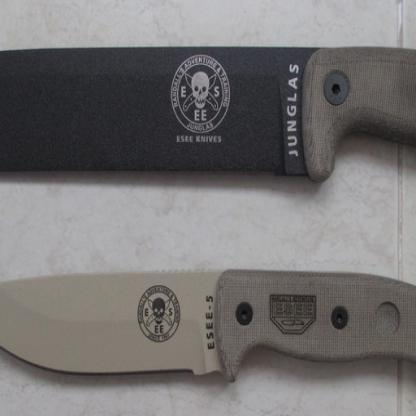knife: (0, 42, 415, 222), (0, 263, 415, 388)
